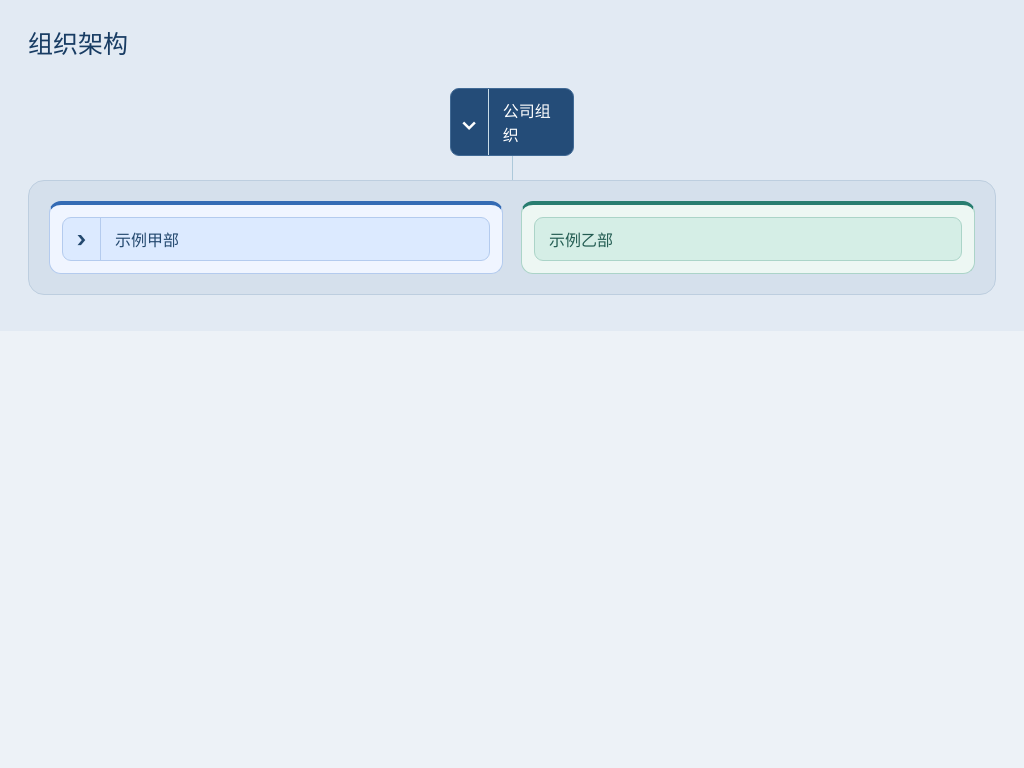
appends cursor pages and provides native keyboard buttons in nested lists
Click the button "示例甲部".
click(147, 240)  # box [101,218,489,260]
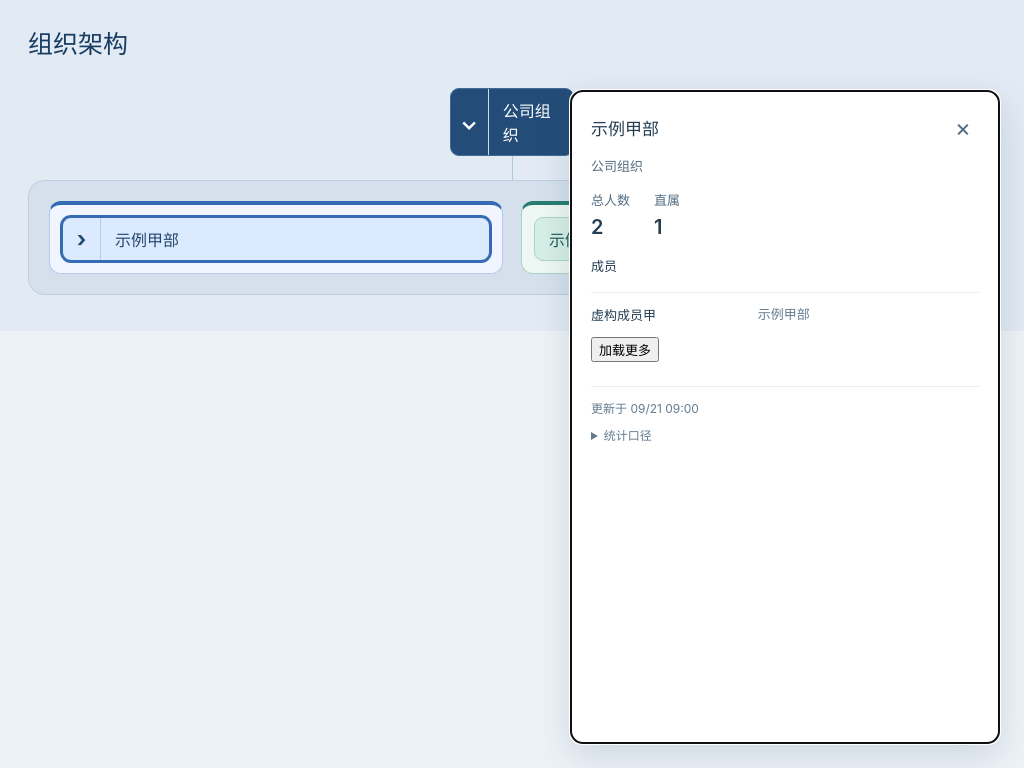
Expected: the button "加载更多" is shown
Click the button "加载更多".
click(625, 349)  # box [591,337,659,362]
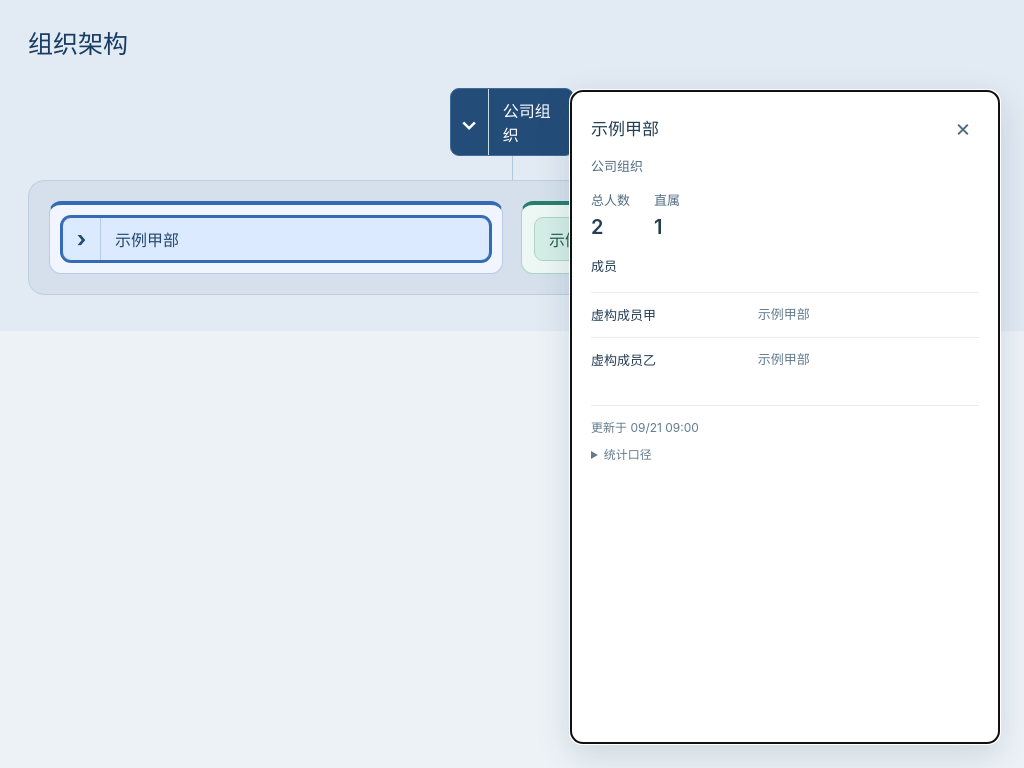
Expected: the list "› 示例甲部 示例乙部" is shown, [28,180,996,295]
Expected: the text "虚构成员甲" is shown, [591,305,656,324]
Expected: the text "虚构成员乙" is shown, [591,350,656,369]
